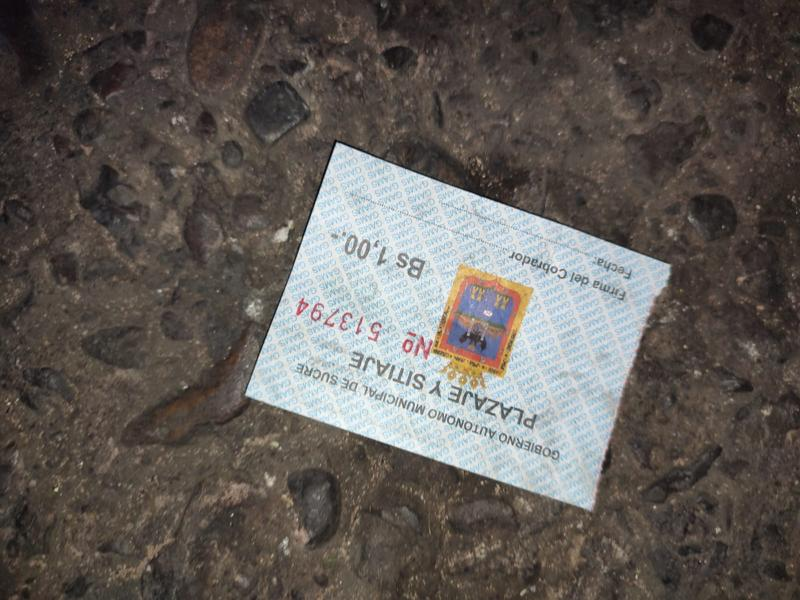papel: (243, 143, 671, 511)
